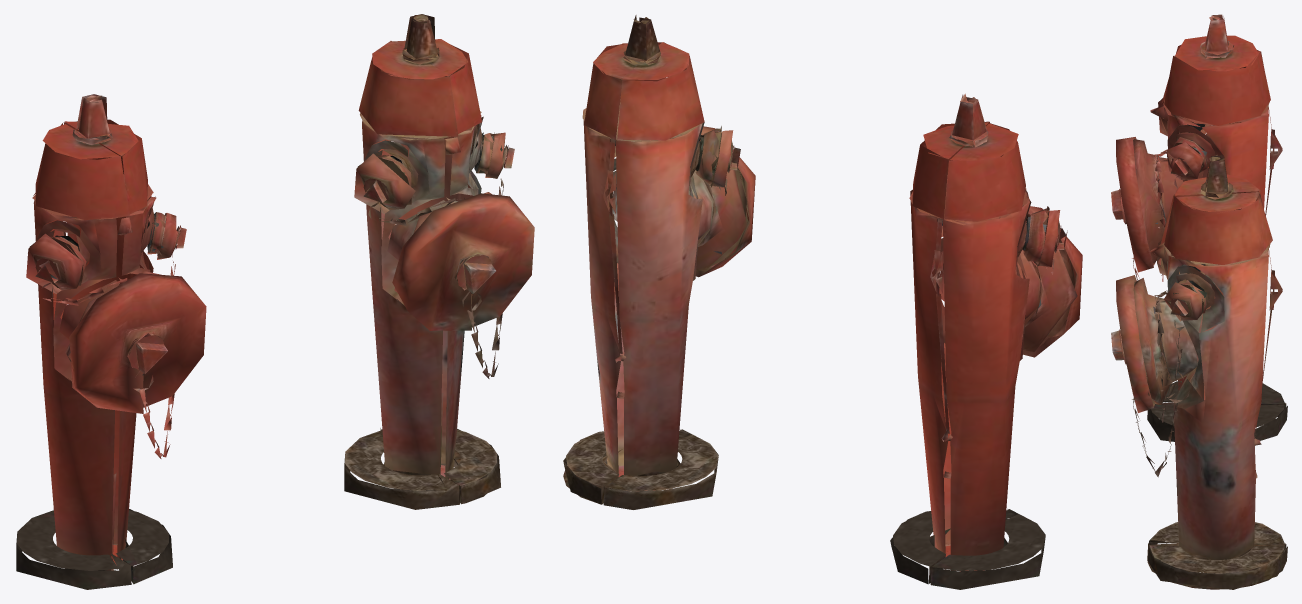
The model's file is ph_fire_hydrant.glb.
3 views of the same model, side by side, from view 1: azimuth 30°, elevation 25°; view 2: azimuth 150°, elevation 25°; view 3: azimuth 270°, elevation 25° (orthographic). The views are drawn at different scales.
Visible parts, largest first — view 1: fire_hydrant; view 2: fire_hydrant; view 3: fire_hydrant.
Boxes of the visible parts, <box> form: fire_hydrant: <box>16,14,534,589</box>; fire_hydrant: <box>563,15,1082,589</box>; fire_hydrant: <box>1111,14,1287,589</box>.
Size of the model in its own units: 0.8728 by 0.8062 by 0.3189.
Materials: 2 (2 with a texture image).
